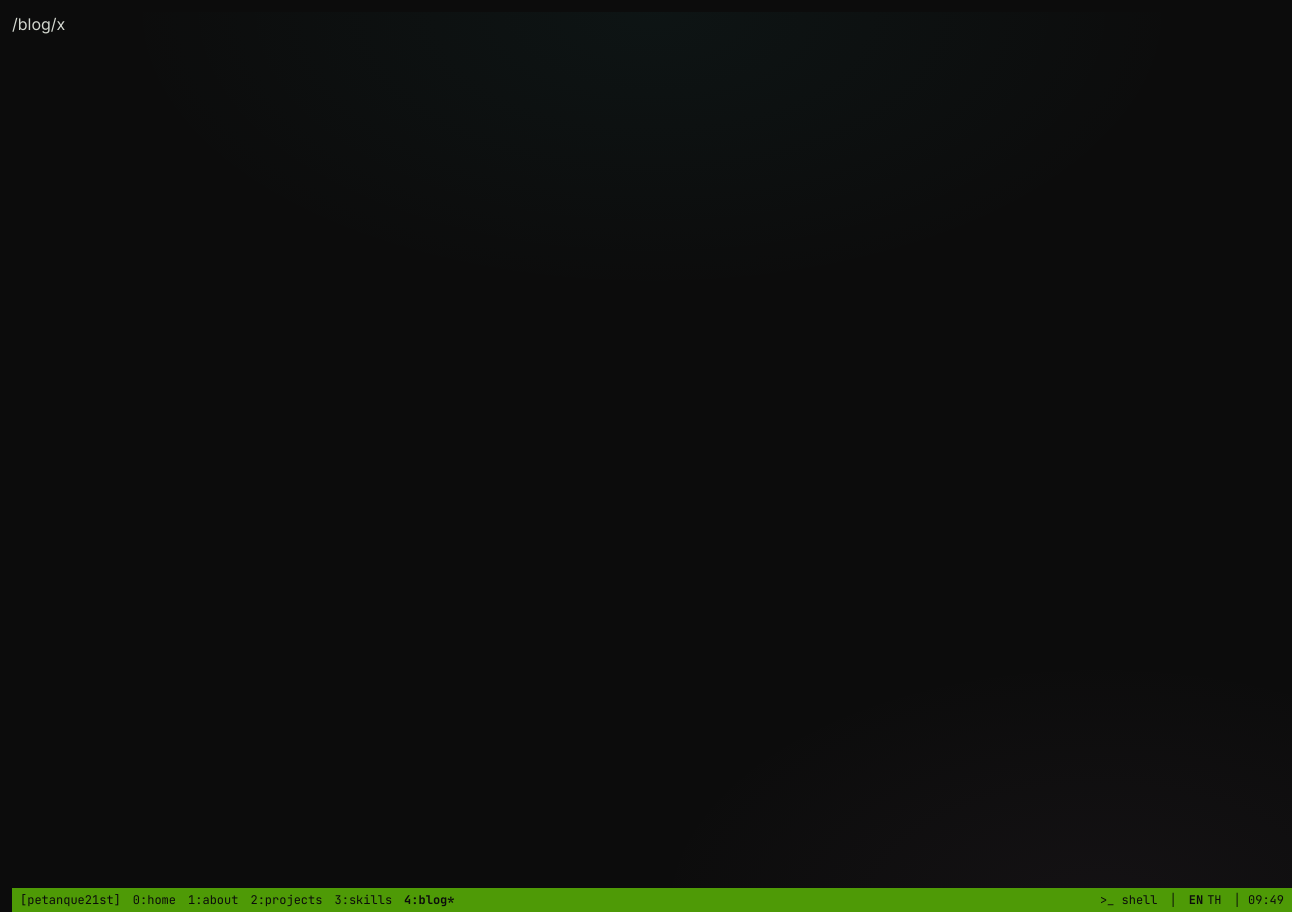
it: clicking a window navigates home to that section
This screenshot has width=1292, height=912.
Click the button "3:skills" at (363,900), box [334,894,392,906]
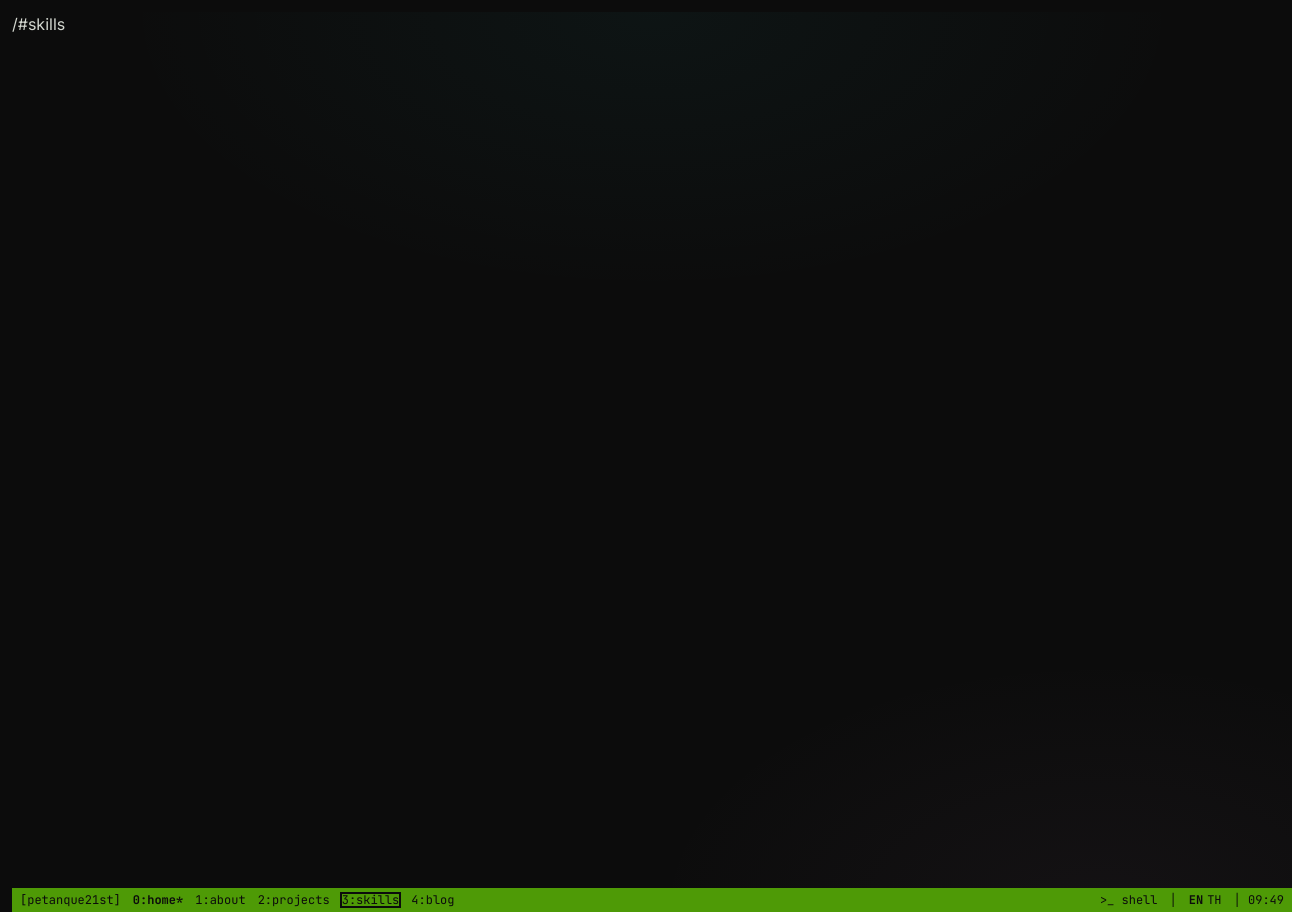
Expected: the text with test id "loc" reads "/#skills", [12,14,65,34]
